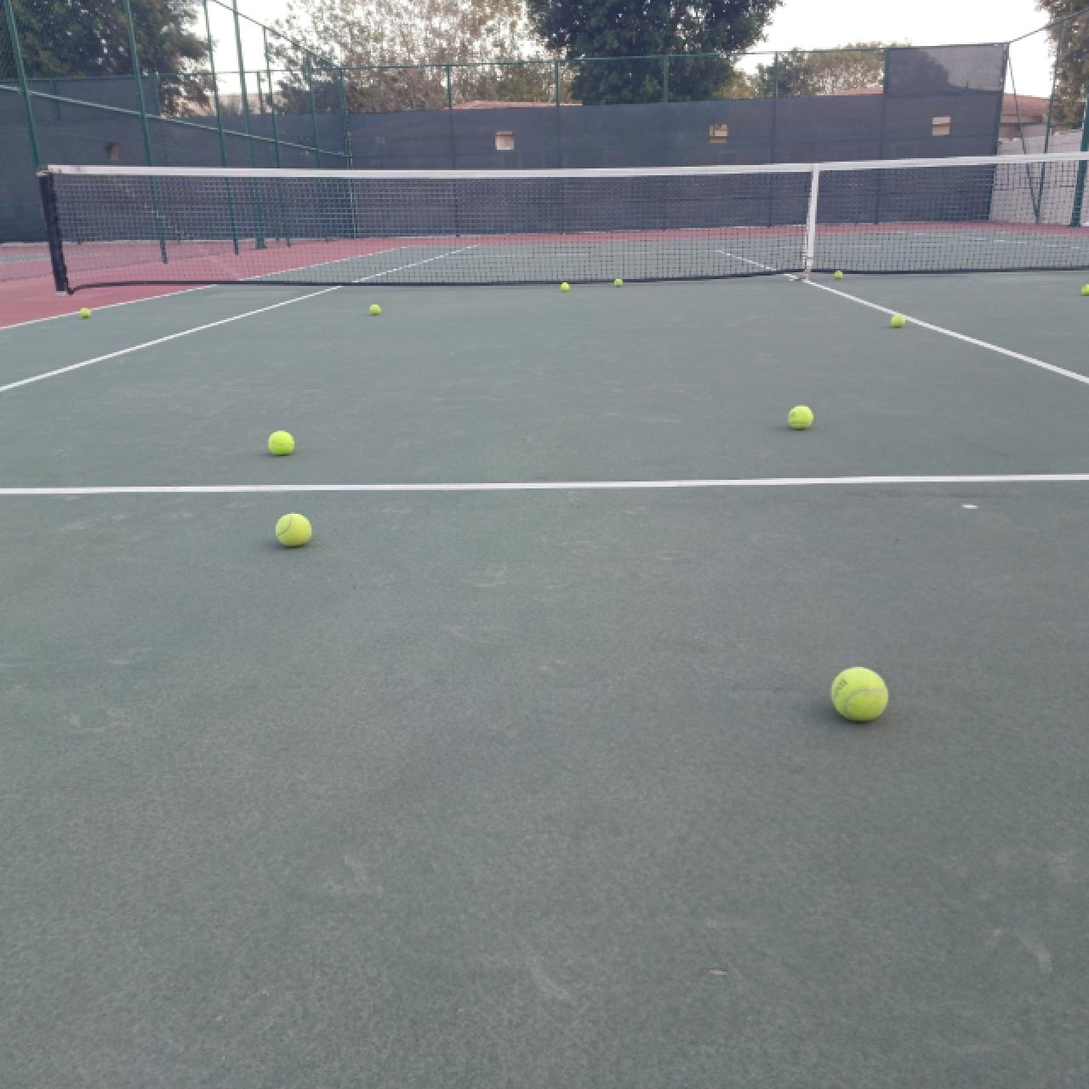tennis-ball: (829, 667, 891, 724), (274, 510, 316, 549), (268, 429, 296, 456), (787, 405, 814, 431), (889, 312, 907, 330), (368, 304, 382, 318), (80, 306, 92, 319), (832, 269, 844, 281), (1080, 283, 1089, 298), (560, 281, 570, 293), (613, 278, 624, 288)
